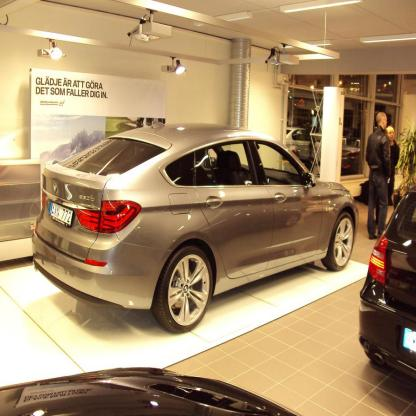Car: (28, 126, 366, 336), (1, 363, 300, 416), (356, 180, 416, 381)
